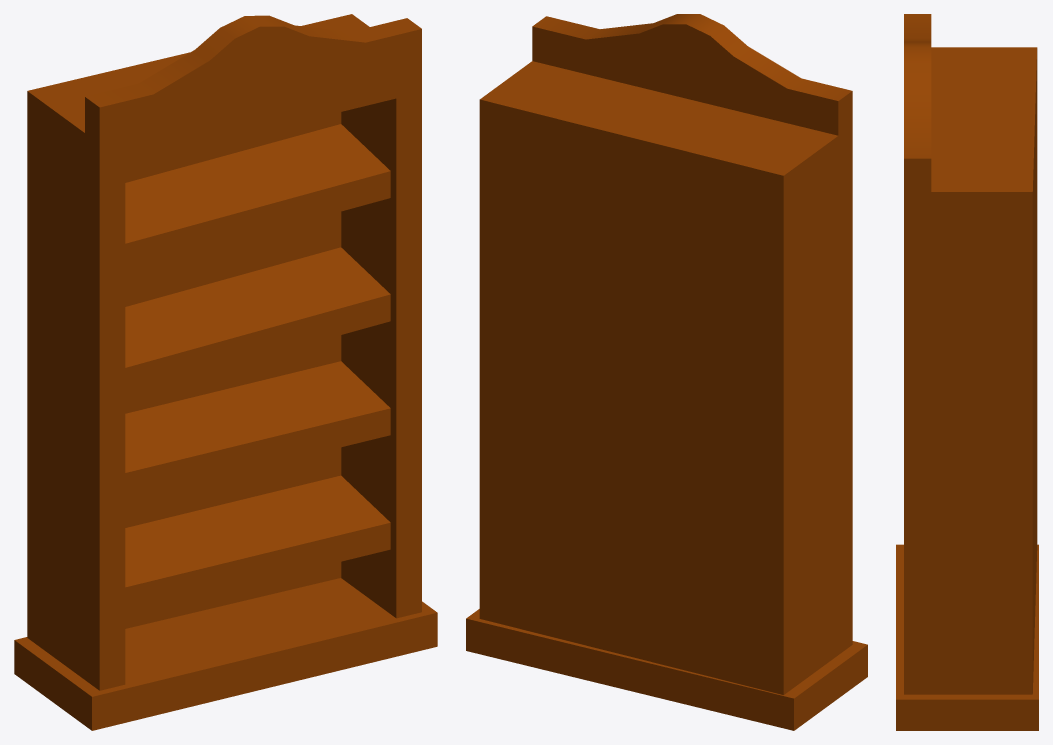
File: Furnitur_Shelf_01.glb
The picture shows the model from 3 angles, left to right: view 1: azimuth 30°, elevation 25°; view 2: azimuth 150°, elevation 25°; view 3: azimuth 270°, elevation 25°; orthographic projection. The views are drawn at different scales.
Parts seen in each view (by area): view 1: Furnitur_Shelf_01; view 2: Furnitur_Shelf_01; view 3: Furnitur_Shelf_01.
Part boxes in pixels (<box>): Furnitur_Shelf_01: <box>14,14,437,730</box>; Furnitur_Shelf_01: <box>466,14,867,730</box>; Furnitur_Shelf_01: <box>896,14,1038,730</box>.
Bounding box in the file's own units: 1.28 × 2.33 × 0.4974.
1 material, 1 textured.
